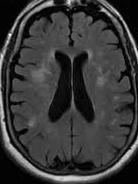Normal_Brain: (1, 1, 138, 184)
